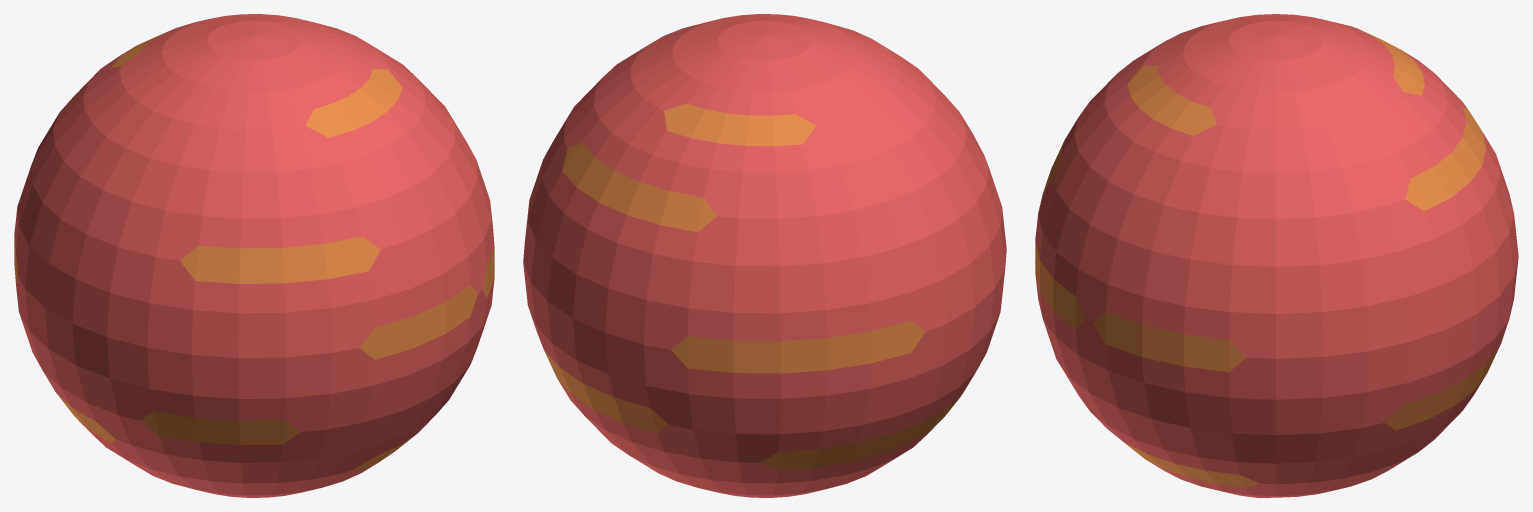
Rendered from Planet_No_Ring.fbx.
3 renders of one model, left to right at view 1: azimuth 30°, elevation 25°; view 2: azimuth 150°, elevation 25°; view 3: azimuth 270°, elevation 25°, orthographic.
Visible parts, largest first — view 1: Planet; view 2: Planet; view 3: Planet.
Part boxes in pixels (box(x1,y1,x2,y2)): Planet: box(14, 14, 494, 497); Planet: box(523, 14, 1006, 497); Planet: box(1035, 14, 1518, 497).
Bounding box in the file's own units: 6.93 × 6.93 × 6.9.
